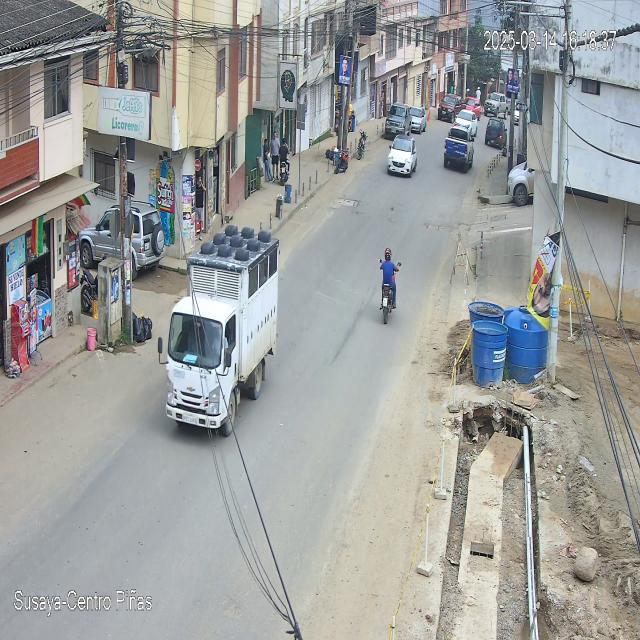MOTORCYCLE: (378, 270, 398, 324)
SED: (388, 135, 417, 178)
TRUCK: (163, 227, 280, 433)
